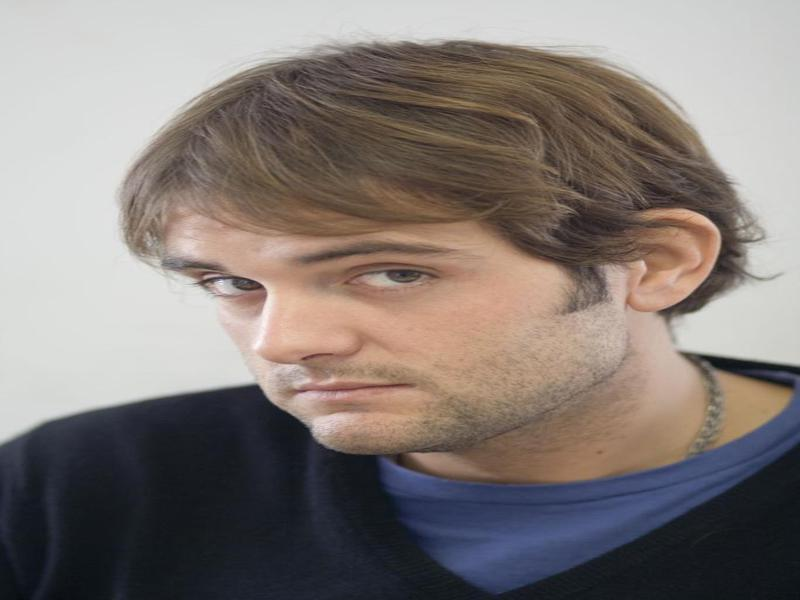person: (18, 29, 794, 600)
